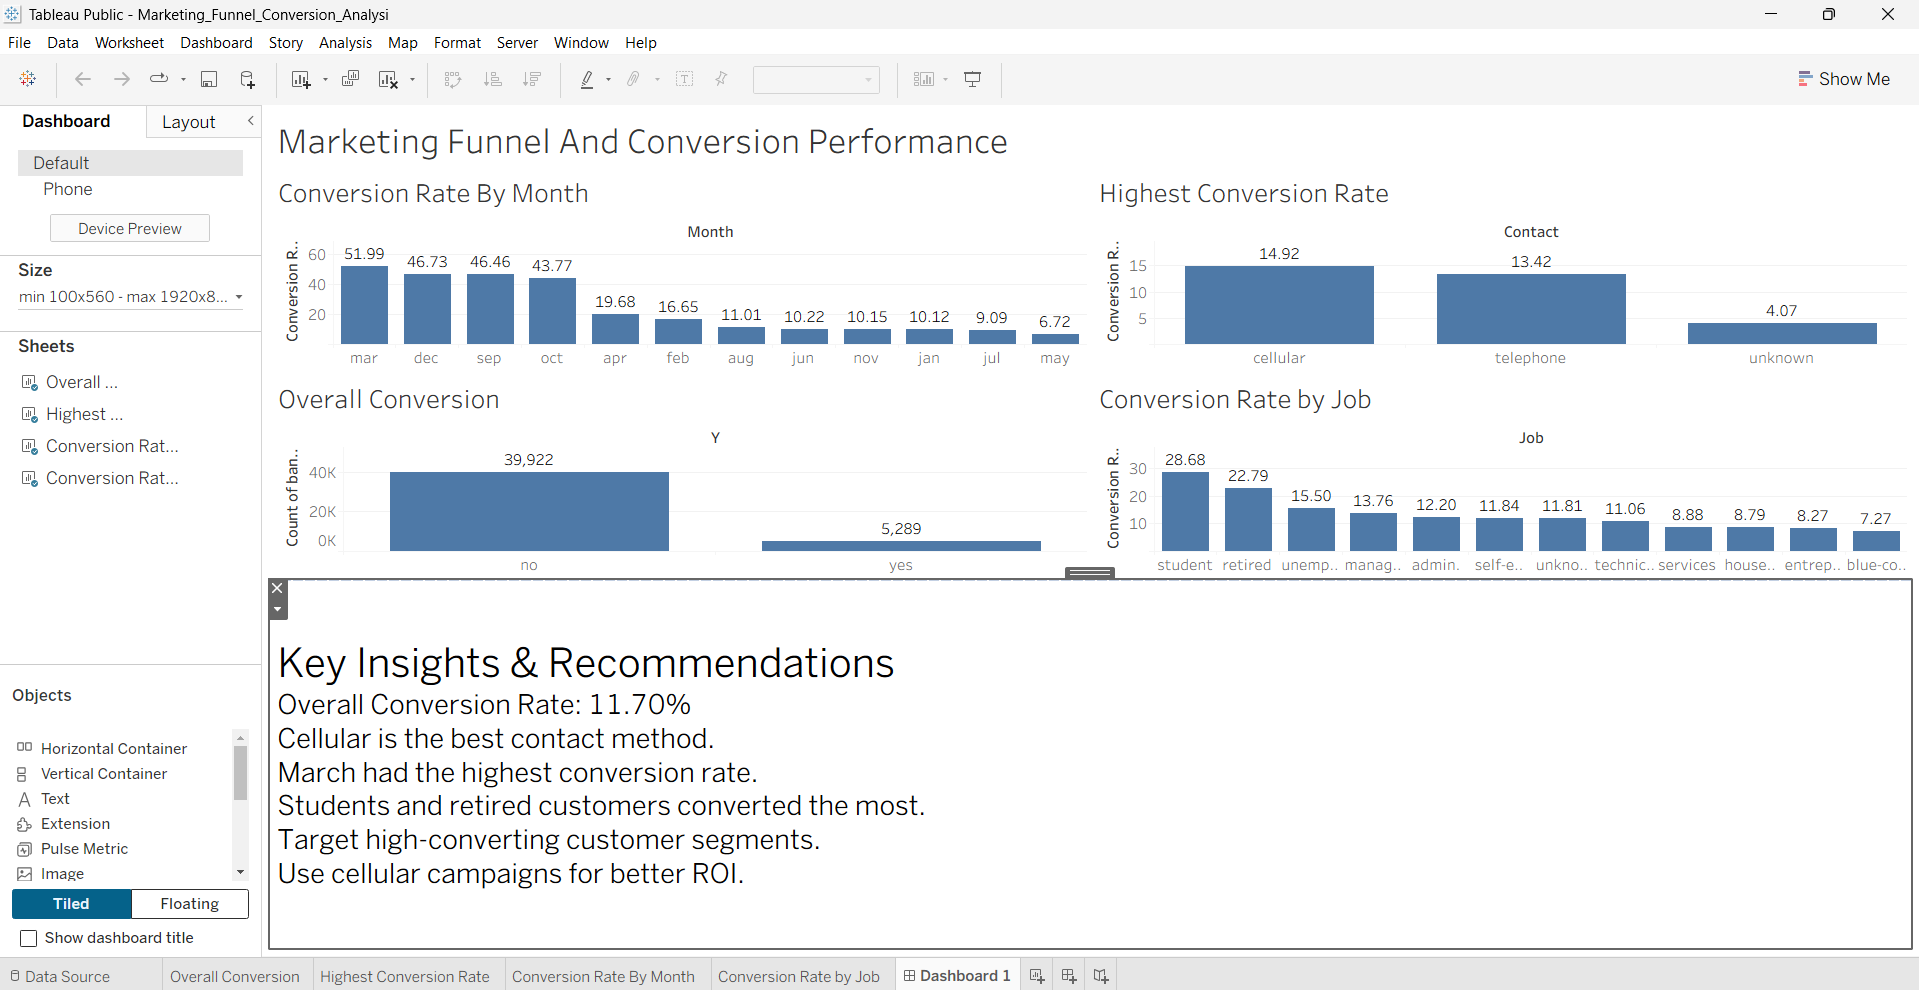

What the dashboard file says about the page in this screenshot:
{"tool":"tableau","page":{"name":"Dashboard 1","canvas":[1000,1000],"units":"permille","ordinal":0},"visuals":[{"type":"title","box":[4.8,9.4,990.3,63.5]},{"type":"worksheet","title":"Conversion Rate By Month","mark":"Automatic","rows":["Calculation_0932691696922625"],"cols":["month"],"box":[4.8,72.9,495.2,242.6]},{"type":"worksheet","title":"Highest Conversion Rate","mark":"Automatic","rows":["Calculation_0932691696922625"],"cols":["contact"],"box":[500,72.9,495.2,242.6]},{"type":"worksheet","title":"Overall Conversion","mark":"Automatic","rows":["bank-full.csv_07B9FA051F9F4990948062591B4BCF27"],"cols":["y"],"box":[4.8,315.5,495.2,242.7]},{"type":"worksheet","title":"Conversion Rate by Job","mark":"Automatic","rows":["Calculation_0932691696922625"],"cols":["job"],"box":[500,315.5,495.2,242.7]},{"type":"text","box":[4.8,558.2,990.3,432.4]}]}

Visuals, with their boxes on the dashboard's canvas, which has no fixed pixel size, in thousandths of its width and height (x1, y1, x2, y2). These are canvas units, not pixel positions in the 1919x990 screenshot, which may show the page scaled, cropped or inside an application window:
title: bbox=[5, 9, 995, 73]
"Conversion Rate By Month" worksheet: bbox=[5, 73, 500, 316]
"Highest Conversion Rate" worksheet: bbox=[500, 73, 995, 316]
"Overall Conversion" worksheet: bbox=[5, 316, 500, 558]
"Conversion Rate by Job" worksheet: bbox=[500, 316, 995, 558]
text: bbox=[5, 558, 995, 991]
